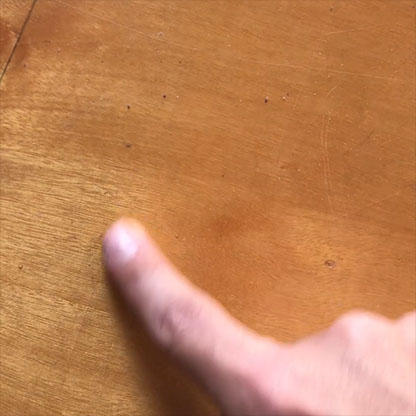fingertip: (90, 216, 154, 281)
